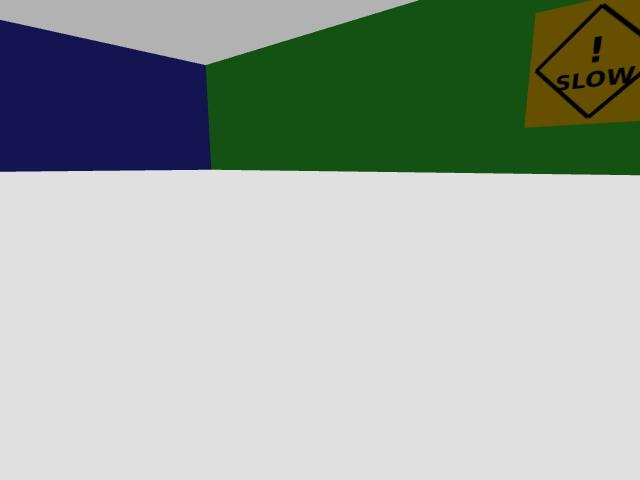slow: (525, 0, 639, 127)
